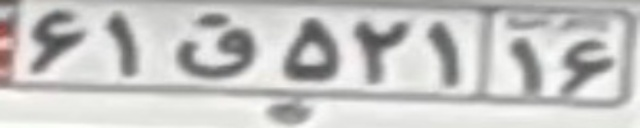1: (105, 12, 143, 76), (425, 20, 461, 87), (509, 36, 543, 96)
2: (351, 20, 407, 85)
5: (283, 17, 338, 81)
6: (29, 8, 88, 72), (556, 36, 614, 96)
ghaf: (176, 12, 252, 78)
